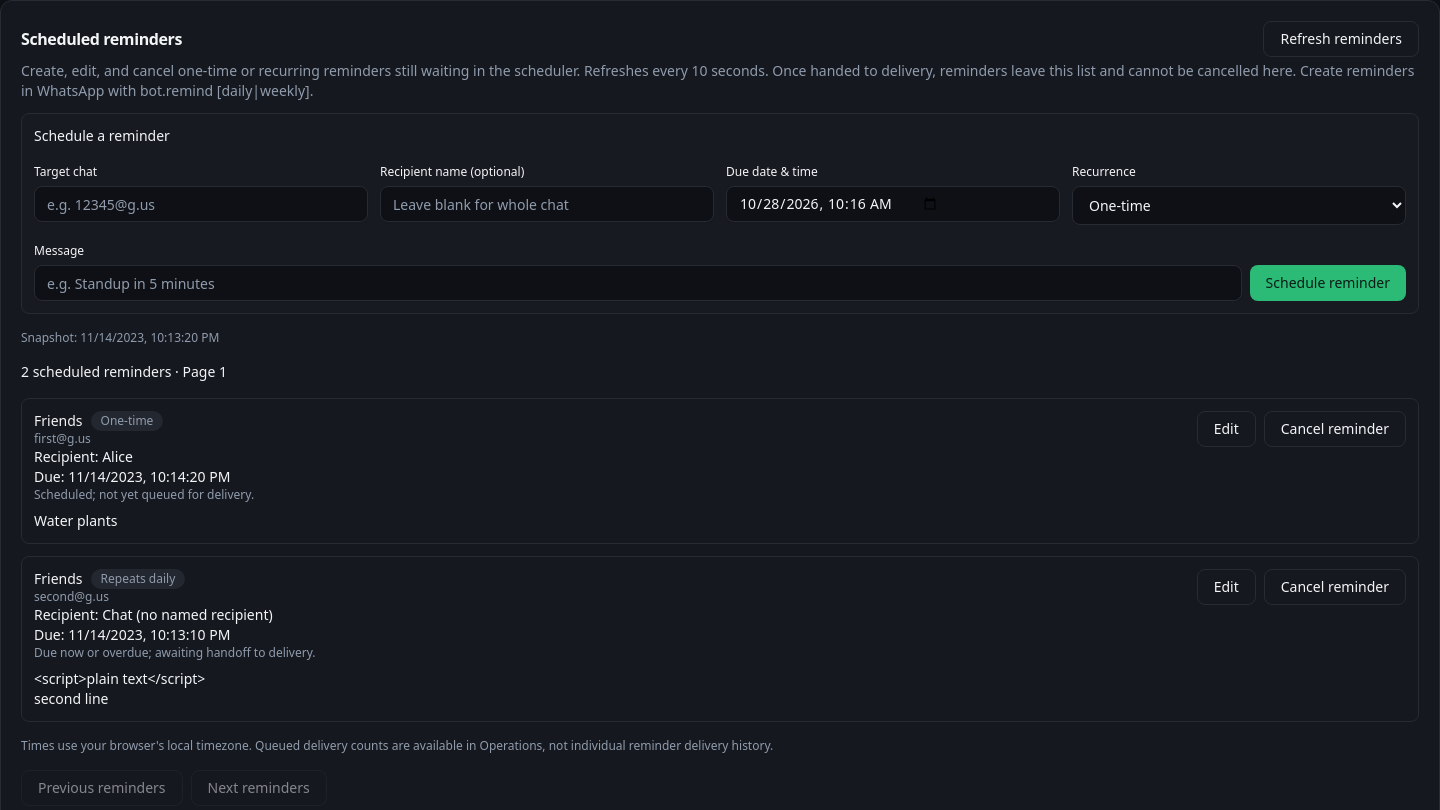
scheduled reminders › removes only a successfully cancelled row and refetches the scheduler
Expected: the text "Water plants" is shown, [34,511,118,530]
Click the button "Cancel reminder" in the row of "first@g.us".
click(1335, 429)  # box [1264,411,1406,447]
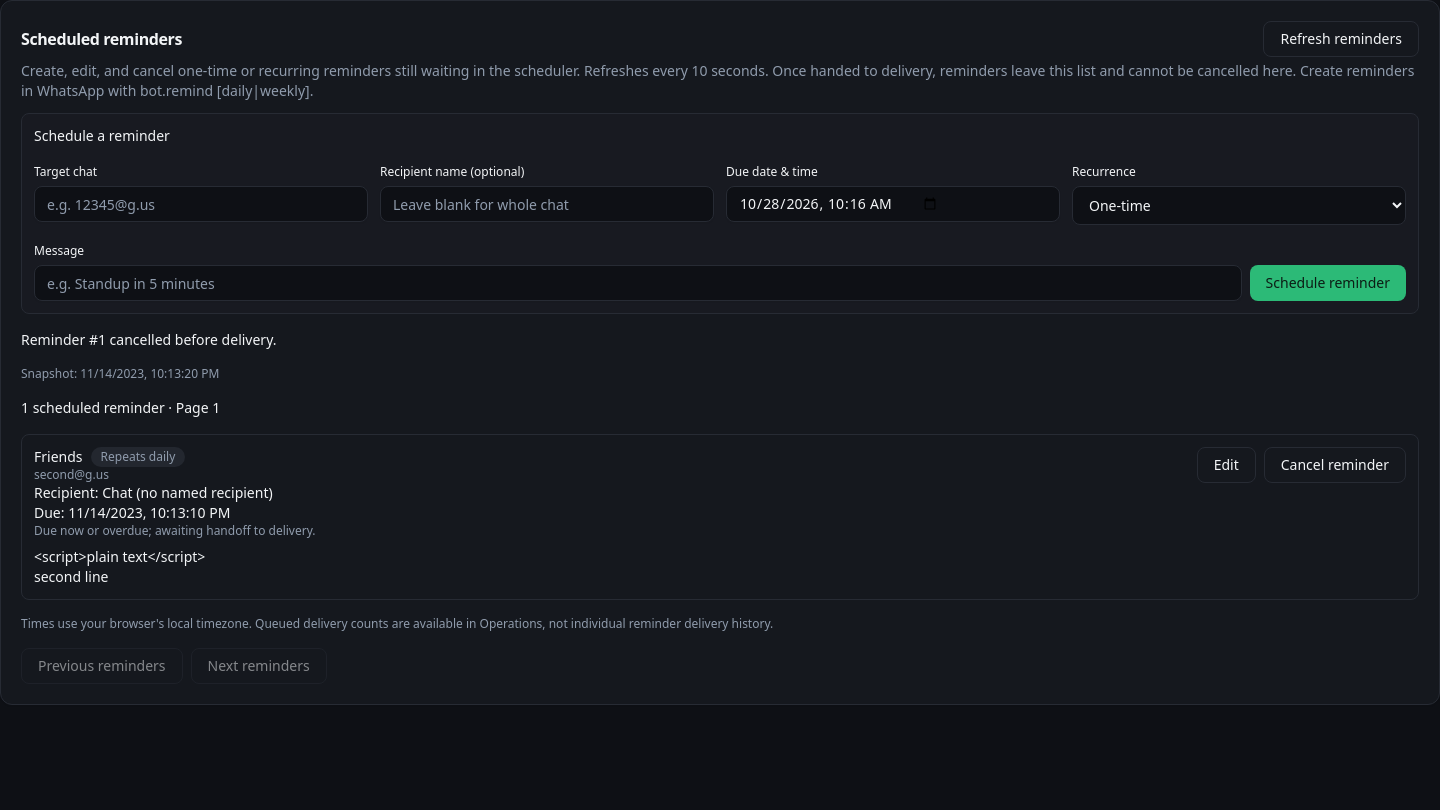
Expected: the text "<script>plain text</script> second line" is shown, [34,547,205,586]
Result: the text "Reminder #1 cancelled before delivery." is shown at [21,330,276,349]
Result: the text "Water plants" is gone
